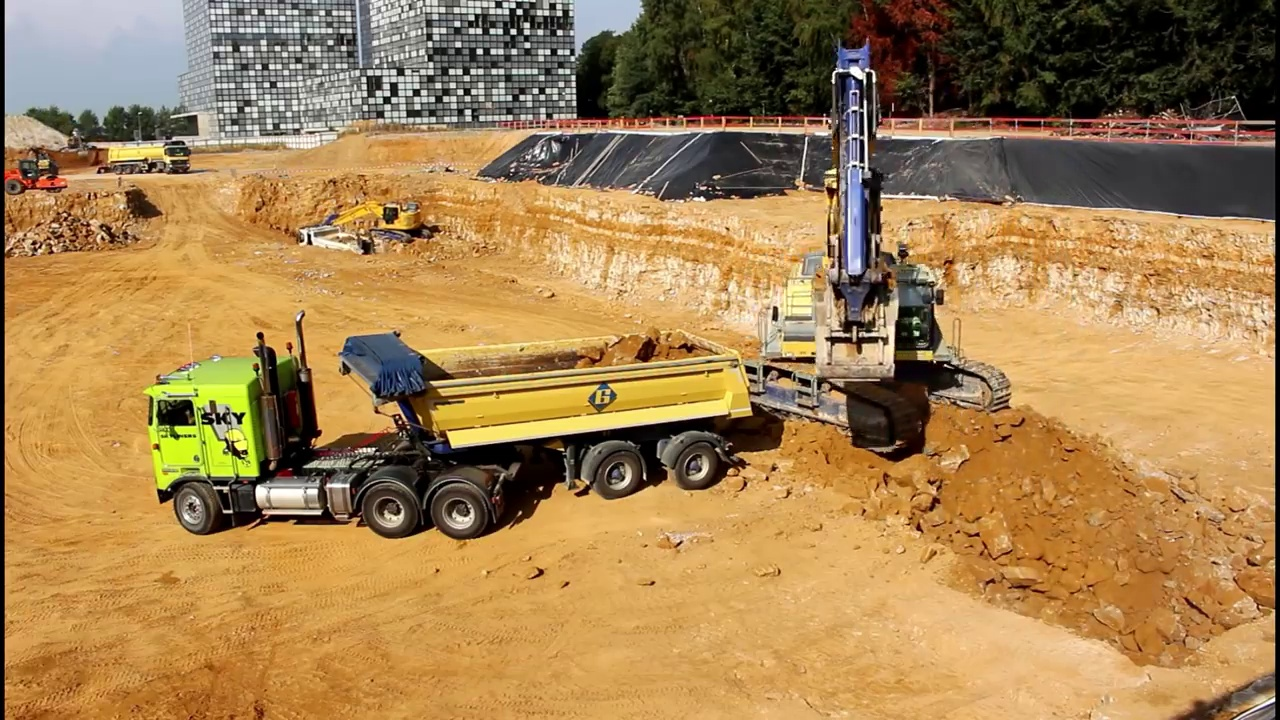compactor: (1, 154, 71, 199)
excavator: (733, 28, 1021, 465), (318, 190, 440, 250), (57, 123, 106, 168)
truck: (140, 306, 761, 541), (104, 131, 195, 188), (294, 220, 381, 278)
